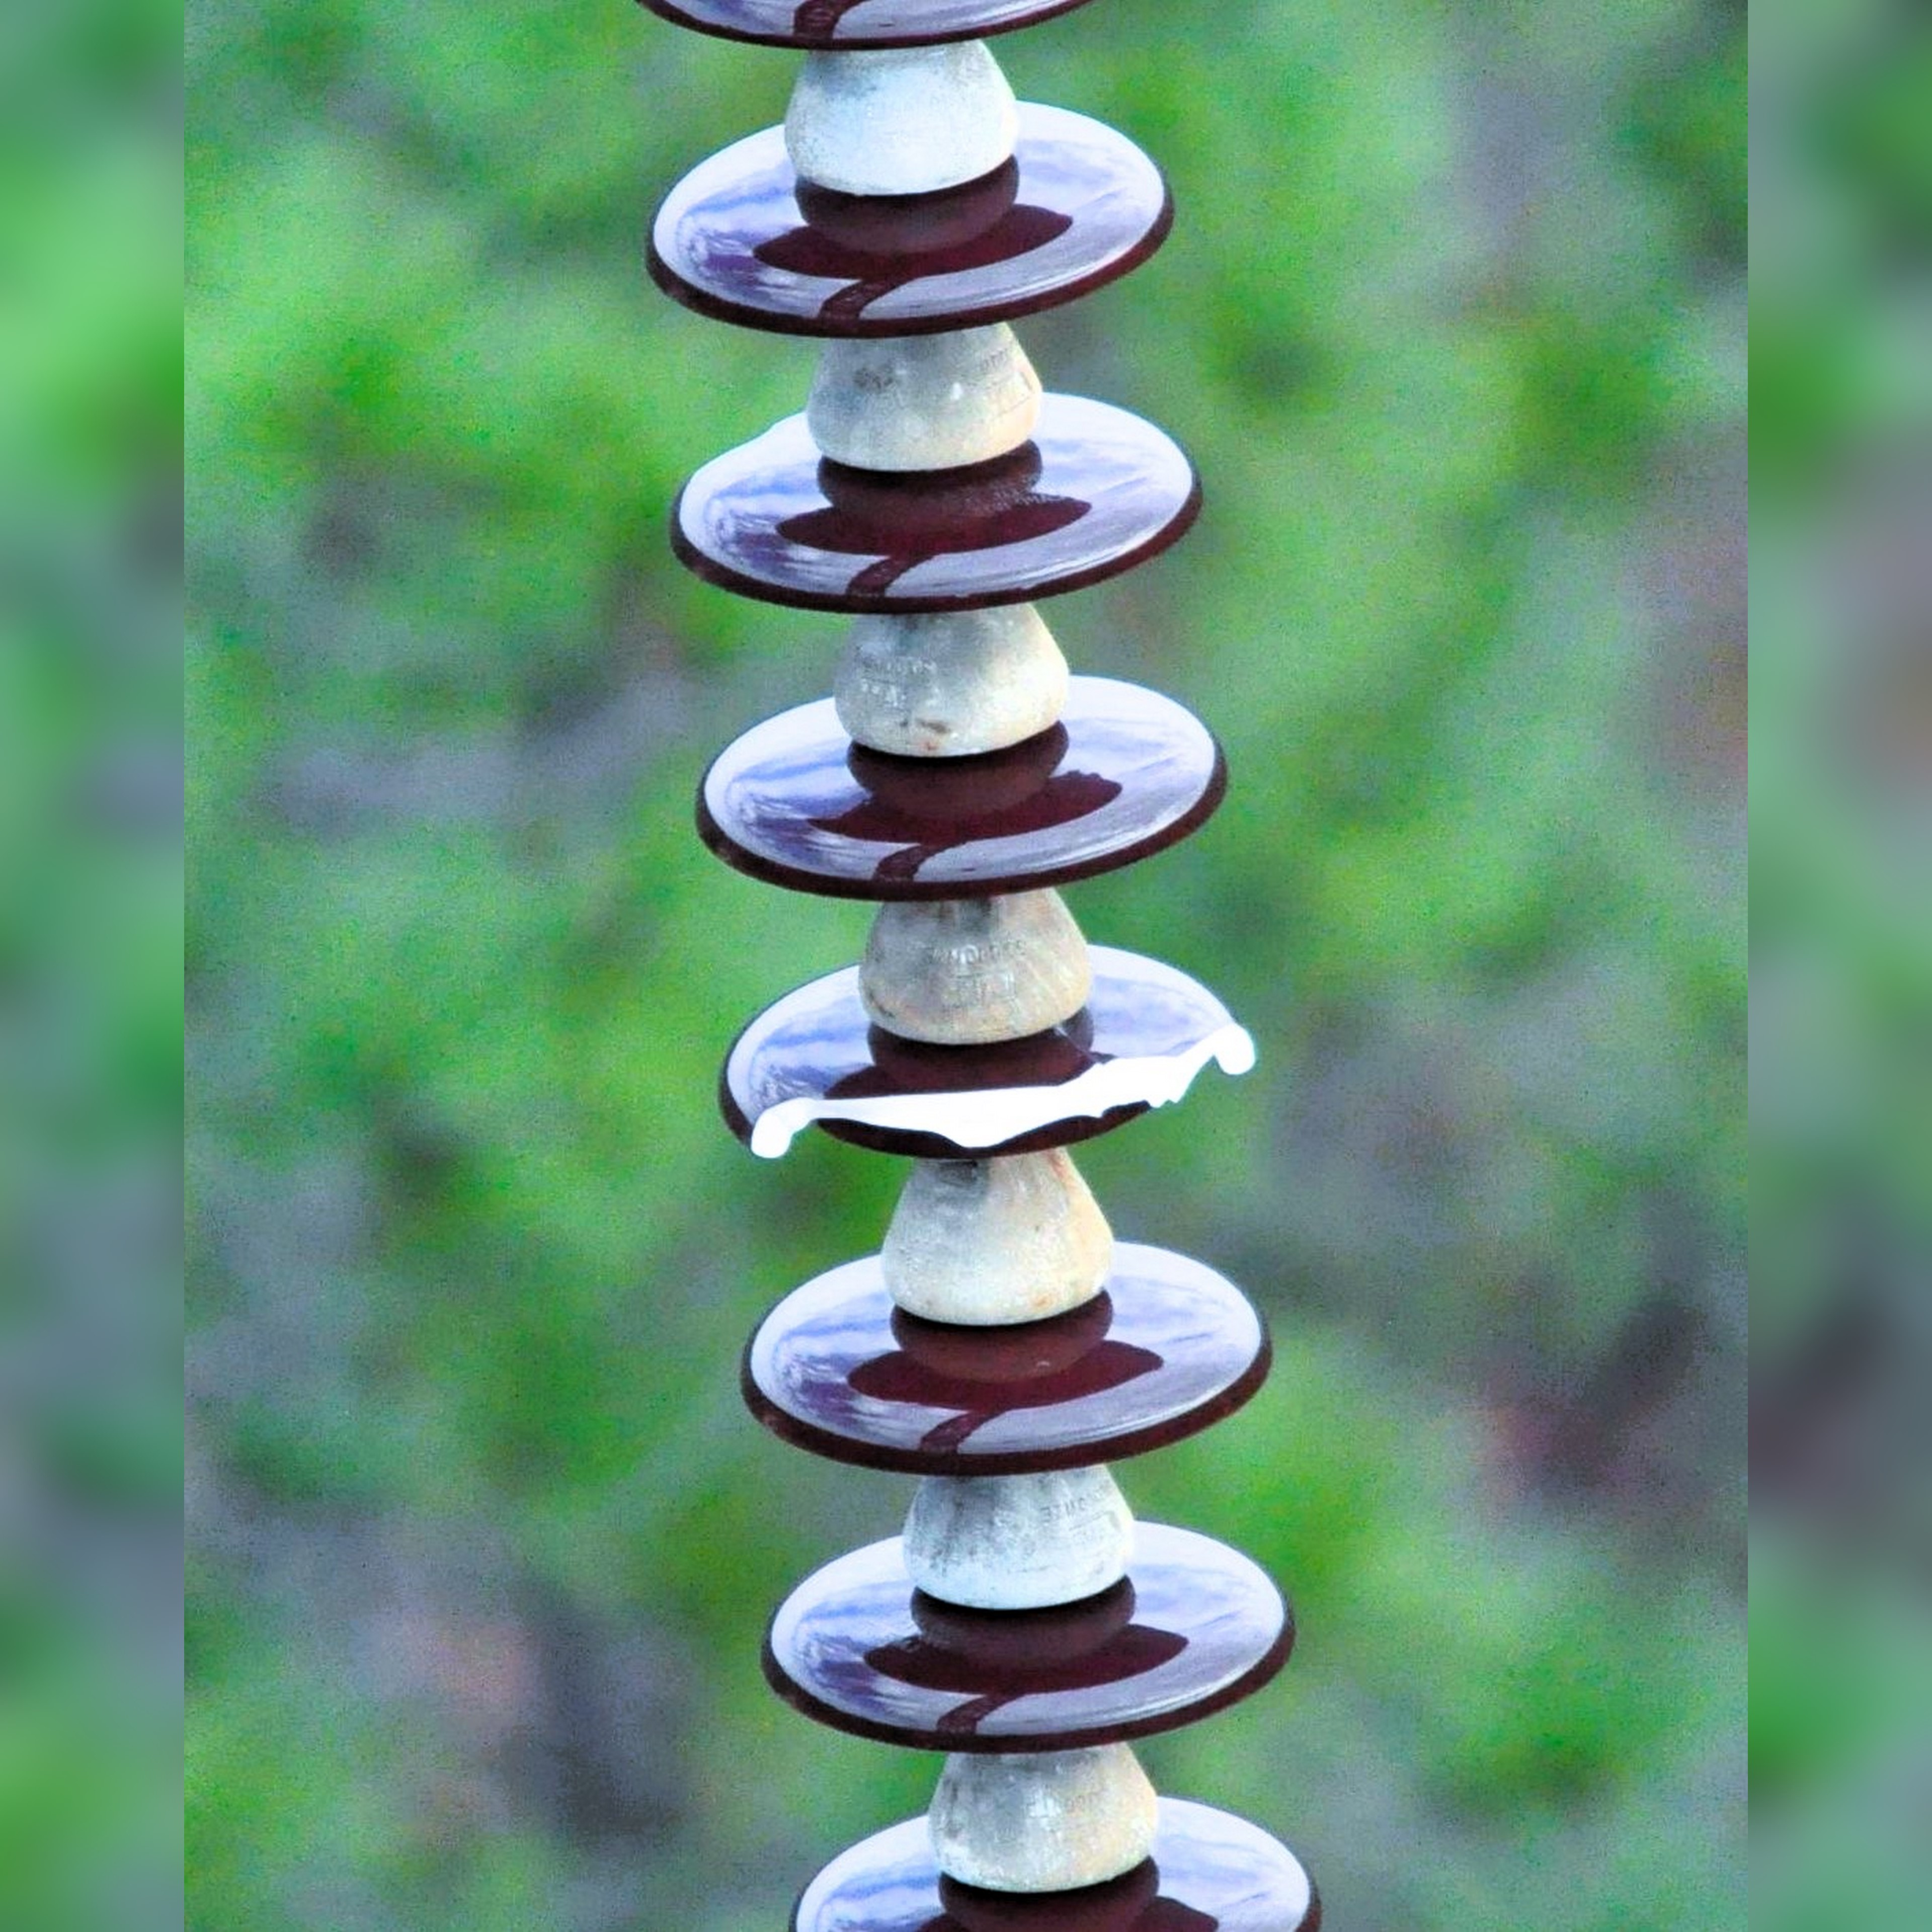insulator breakage: (713, 952, 1272, 1182)
